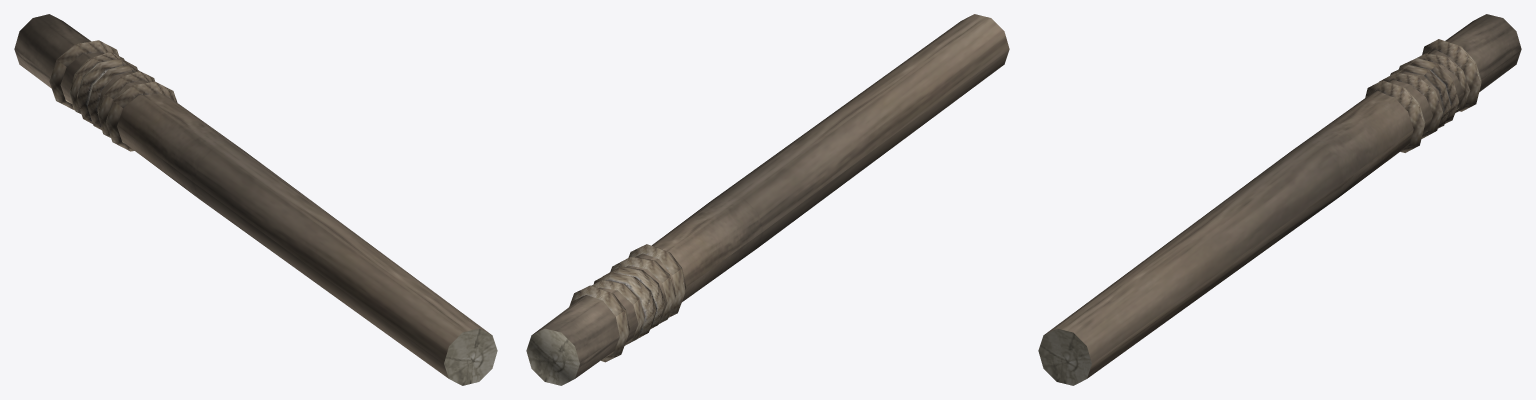
File: Deck_Pole_A.fbx
3 views of the same model, side by side, from view 1: azimuth 30°, elevation 25°; view 2: azimuth 150°, elevation 25°; view 3: azimuth 330°, elevation 25° (orthographic).
Parts seen in each view (by area): view 1: Deck_Pole_A; view 2: Deck_Pole_A; view 3: Deck_Pole_A.
Part boxes in pixels (bbox=[...]): Deck_Pole_A: bbox=[14, 14, 497, 385]; Deck_Pole_A: bbox=[526, 14, 1009, 385]; Deck_Pole_A: bbox=[1038, 14, 1521, 385].
Size of the model in its own units: 0.4153 by 0.4021 by 4.56.
